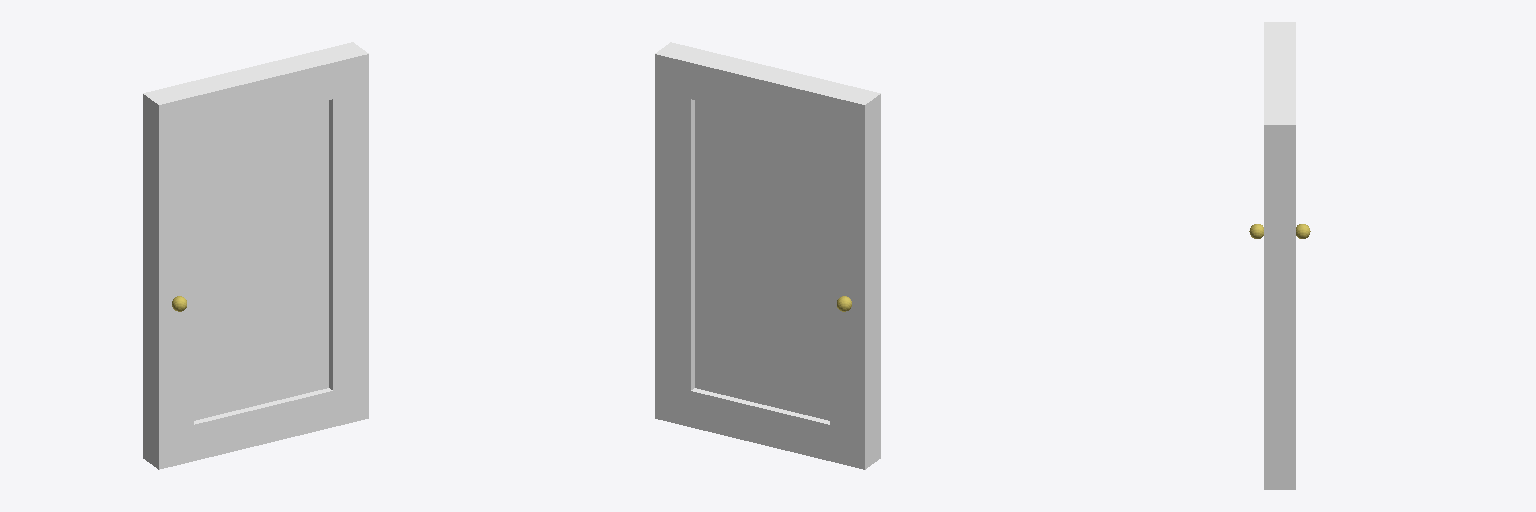
3 views of the same model, side by side, from view 1: azimuth 30°, elevation 25°; view 2: azimuth 150°, elevation 25°; view 3: azimuth 270°, elevation 25° (orthographic).
Parts seen in each view (by area): view 1: Cube; view 2: Cube; view 3: Cube.
Boxes of the visible parts, x1,y1,x2,y2 form: Cube: [143, 42, 368, 469]; Cube: [655, 42, 880, 469]; Cube: [1249, 22, 1310, 489].
Bounding box in the file's own units: 3.02 × 5 × 0.7586.
1 materials, 1 textured.